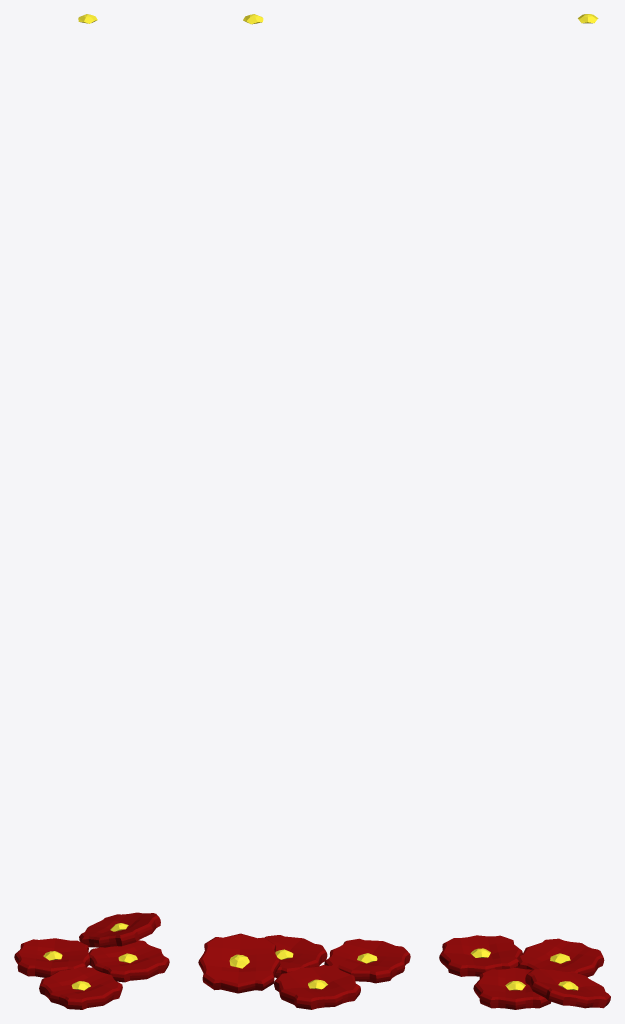
The model's file is cushion_1.fbx.
The picture shows the model from 3 angles, left to right: view 1: azimuth 30°, elevation 25°; view 2: azimuth 150°, elevation 25°; view 3: azimuth 270°, elevation 25°; orthographic projection. The views are drawn at different scales.
Parts seen in each view (by area): view 1: Cube.002, Cube.023, Cube.001, Cube.021; view 2: Cube.021, Cube.001, Cube.002, Cube.023; view 3: Cube.002, Cube.021, Cube.001, Cube.023.
Boxes of the visible parts, bbox=[...] form: Cube.002: bbox=[39, 967, 122, 1009]; Cube.023: bbox=[89, 940, 169, 982]; Cube.001: bbox=[14, 938, 89, 977]; Cube.021: bbox=[79, 912, 160, 947]; Cube.021: bbox=[198, 933, 280, 993]; Cube.001: bbox=[274, 965, 360, 1009]; Cube.002: bbox=[324, 938, 410, 983]; Cube.023: bbox=[265, 935, 327, 977]; Cube.002: bbox=[439, 935, 522, 976]; Cube.021: bbox=[525, 969, 610, 1008]; Cube.001: bbox=[517, 938, 604, 977]; Cube.023: bbox=[473, 967, 550, 1009].
Bounding box in the file's own units: 529 × 3137 × 500.
